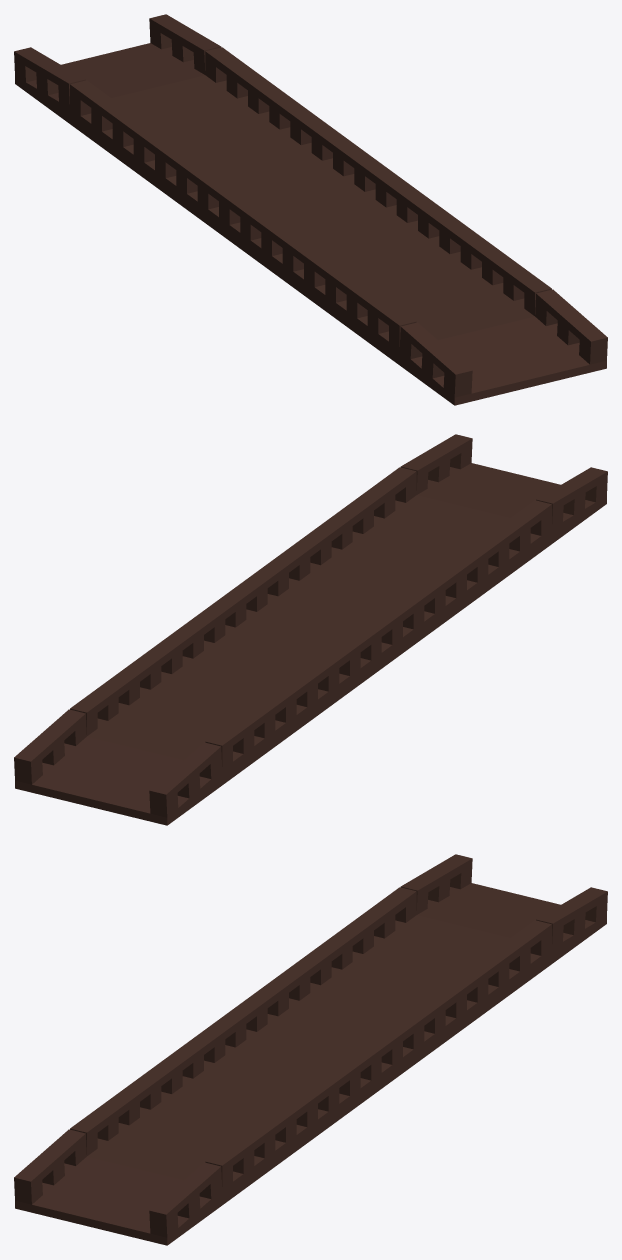
Rendered from Bridge1.fbx.
3 renders of one model, top to bottom at view 1: azimuth 30°, elevation 25°; view 2: azimuth 150°, elevation 25°; view 3: azimuth 330°, elevation 25°, orthographic.
Parts seen in each view (by area): view 1: Bridge; view 2: Bridge; view 3: Bridge.
Part boxes in pixels (box(x1,y1,x2,y2)): Bridge: box(14, 14, 607, 405); Bridge: box(14, 434, 607, 825); Bridge: box(14, 854, 607, 1245).
Size of the model in its own units: 200 by 50 by 1005.
